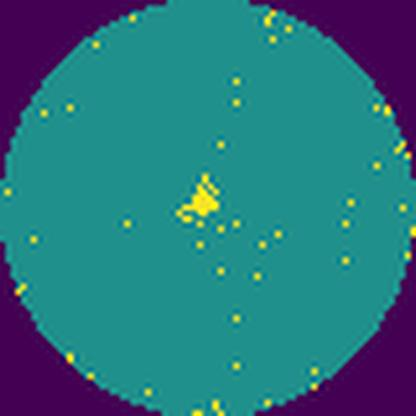Center: (184, 184, 219, 219)
